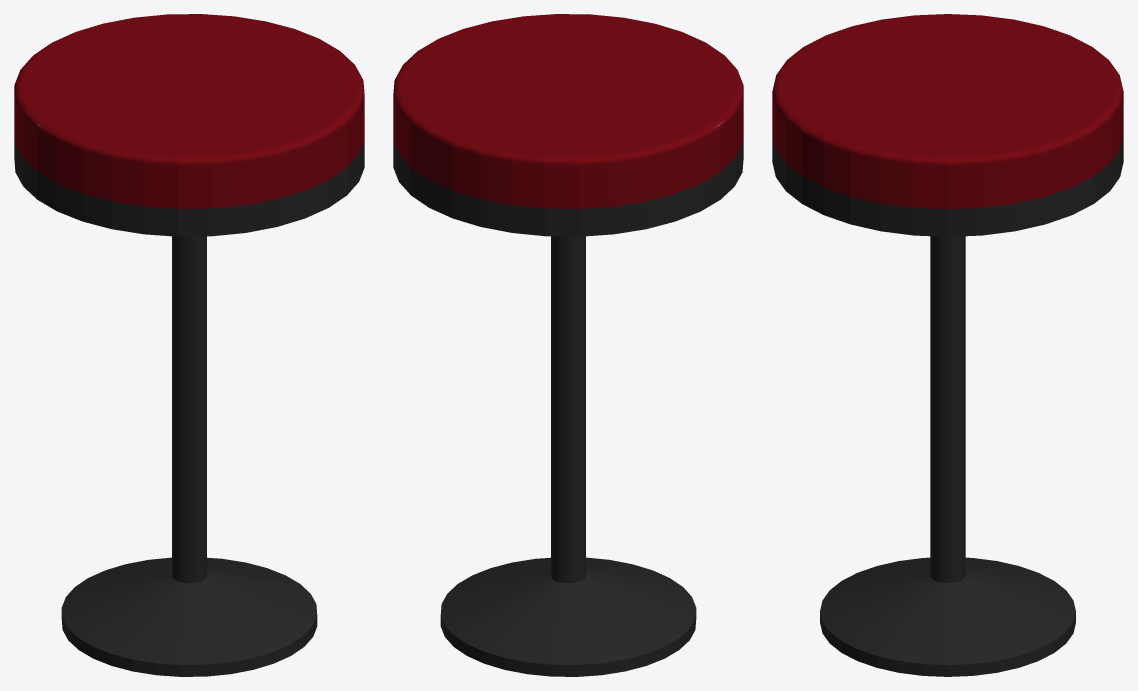
The model's file is barstool.obj.
3 renders of one model, left to right at view 1: azimuth 30°, elevation 25°; view 2: azimuth 150°, elevation 25°; view 3: azimuth 270°, elevation 25°, orthographic.
Parts seen in each view (by area): view 1: BarStool; view 2: BarStool; view 3: BarStool.
Part boxes in pixels (x1,y1,x2,y2): BarStool: [14, 14, 364, 676]; BarStool: [393, 14, 743, 676]; BarStool: [772, 14, 1123, 676].
Bounding box in the file's own units: 0.4186 × 0.7068 × 0.4186.
